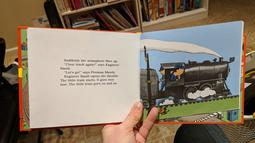text block: (54, 52, 125, 91)
